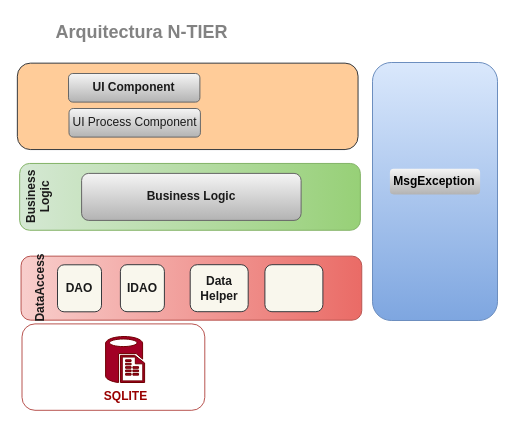
The diagram is 516 pixels wide and 428 high, and some of its shapes have lost their labels. The box of each missing label's shape, as (x1, y1, x2, y2) in pixels:
DataBase: (21, 323, 205, 410)
DTO: (264, 264, 323, 312)
Framework: (372, 62, 498, 320)
User Interface: (16, 62, 358, 150)
